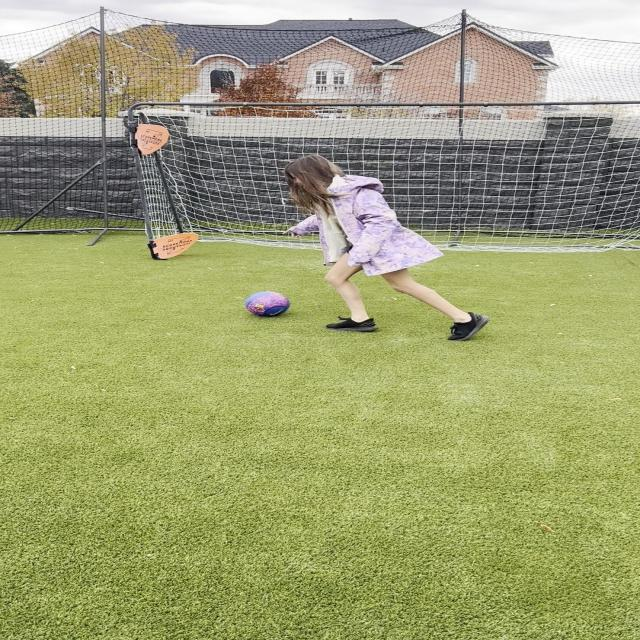Soccer Ball: (246, 291, 290, 318)
